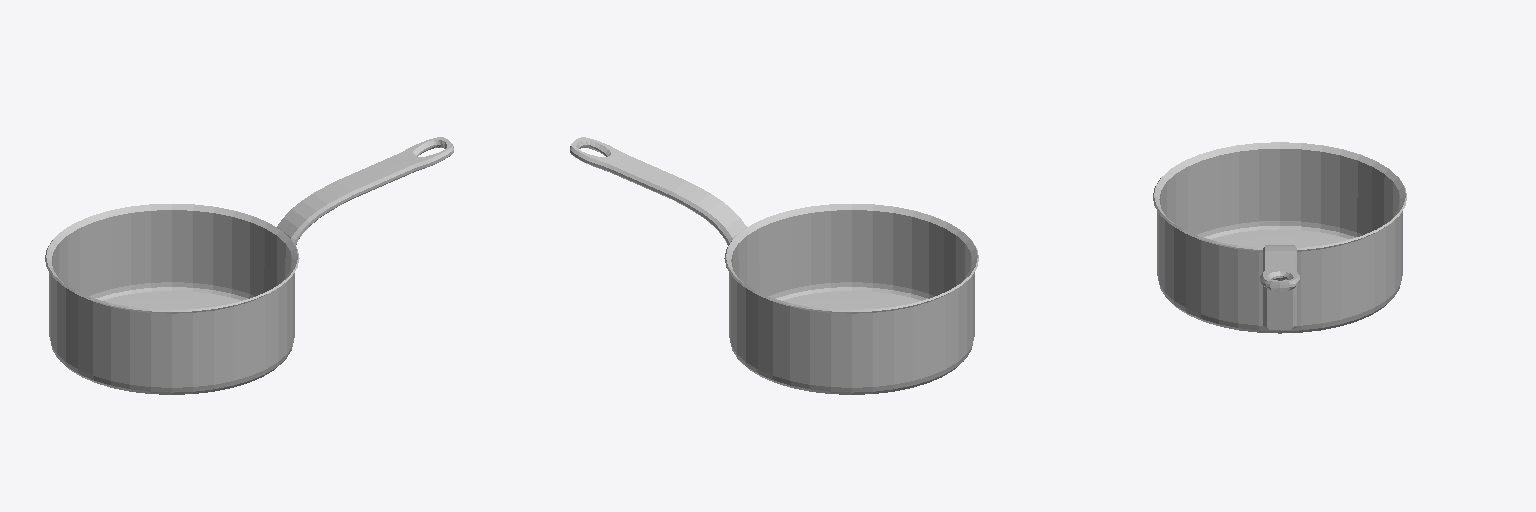
Rendered from Pan3.obj.
3 renders of one model, left to right at view 1: azimuth 30°, elevation 25°; view 2: azimuth 150°, elevation 25°; view 3: azimuth 270°, elevation 25°, orthographic.
Parts seen in each view (by area): view 1: Pan3; view 2: Pan3; view 3: Pan3.
Part boxes in pixels (x1,y1,x2,y2): Pan3: (45,137,453,394); Pan3: (570,137,978,394); Pan3: (1153,142,1406,333).
Bounding box in the file's own units: 11.51 × 3.88 × 6.54.